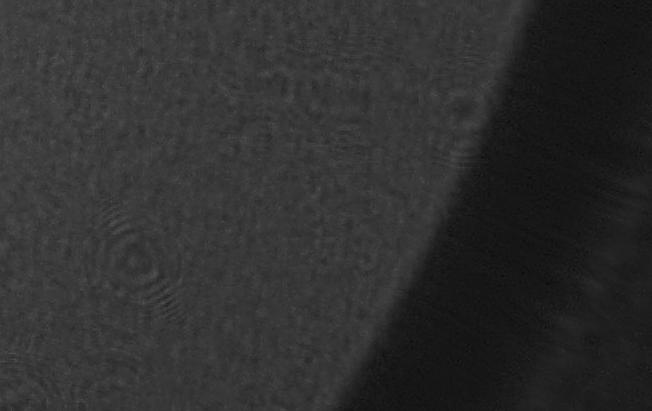bead: (70, 197, 195, 310)
